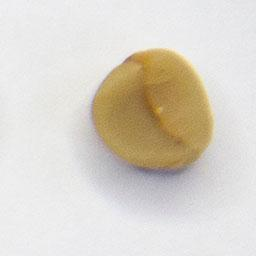defect: (89, 44, 218, 176)
